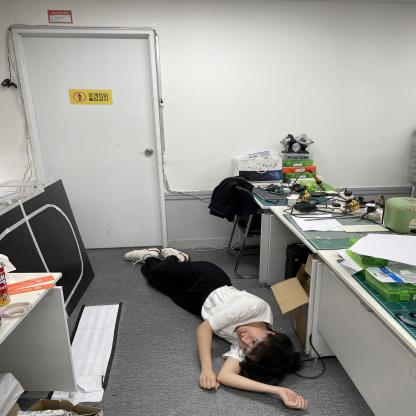fall: (125, 242, 311, 410)
